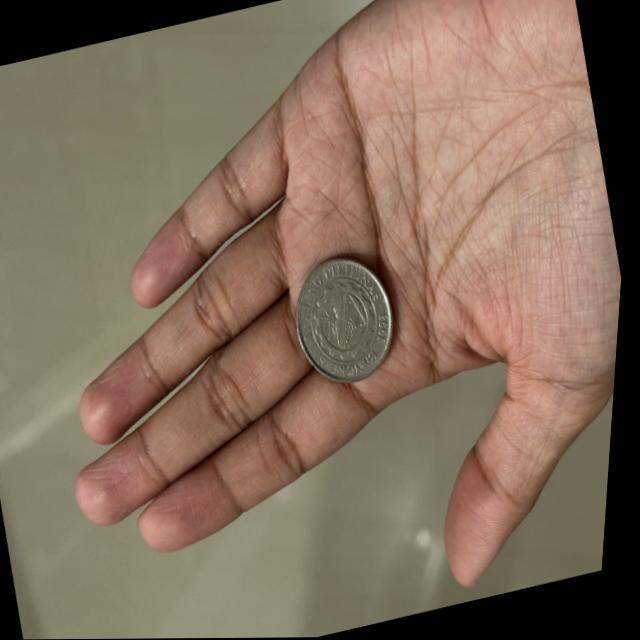1_Old_Back: (284, 248, 410, 391)
